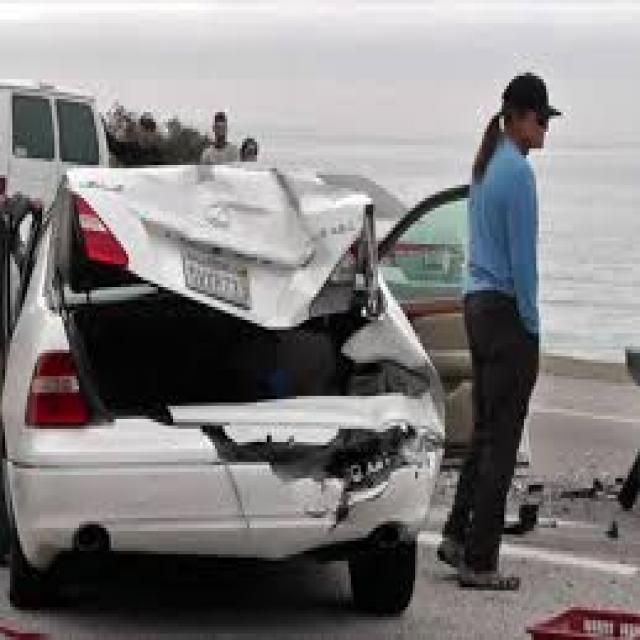damaged-trunk: (52, 167, 384, 390)
